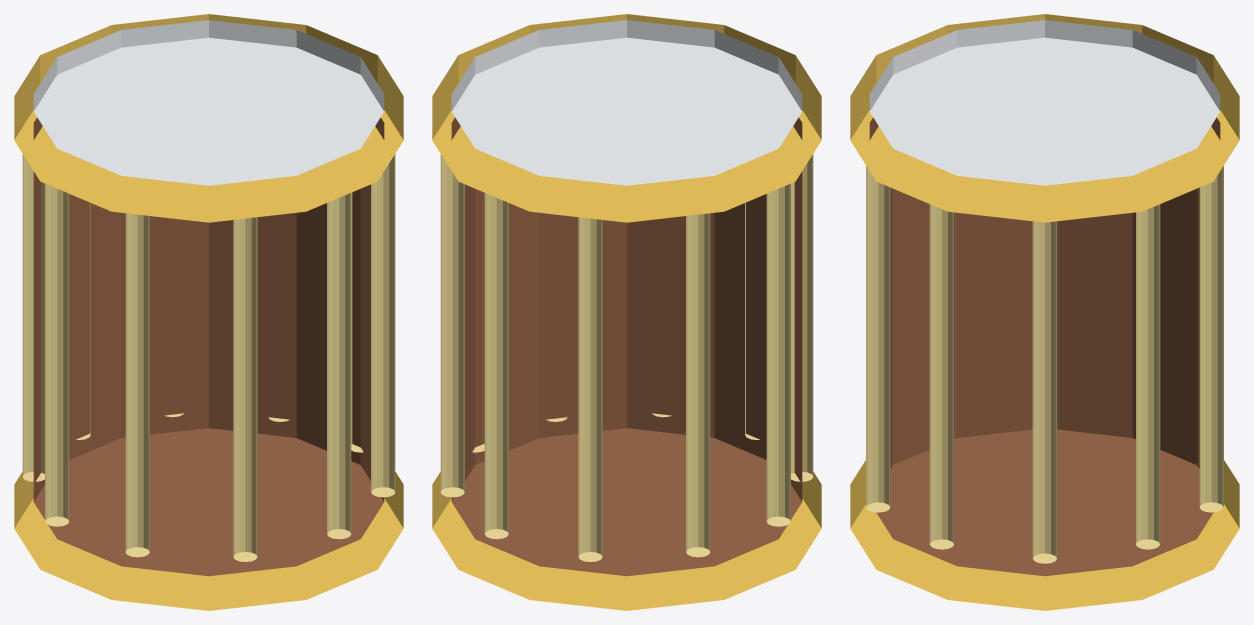
The model's file is minglora_reggae_drum.gltf.
3 renders of one model, left to right at view 1: azimuth 30°, elevation 25°; view 2: azimuth 150°, elevation 25°; view 3: azimuth 270°, elevation 25°, orthographic.
Visible parts, largest first — view 1: minglora_reggae_drum_part_0, minglora_reggae_drum_part_2, minglora_reggae_drum_part_1, minglora_reggae_drum_part_3, minglora_reggae_drum_part_7, minglora_reggae_drum_part_8, minglora_reggae_drum_part_6, minglora_reggae_drum_part_9, minglora_reggae_drum_part_5, minglora_reggae_drum_part_10, minglora_reggae_drum_part_4; view 2: minglora_reggae_drum_part_0, minglora_reggae_drum_part_2, minglora_reggae_drum_part_1, minglora_reggae_drum_part_3, minglora_reggae_drum_part_11, minglora_reggae_drum_part_10, minglora_reggae_drum_part_12, minglora_reggae_drum_part_9, minglora_reggae_drum_part_13, minglora_reggae_drum_part_8, minglora_reggae_drum_part_4; view 3: minglora_reggae_drum_part_0, minglora_reggae_drum_part_2, minglora_reggae_drum_part_1, minglora_reggae_drum_part_3, minglora_reggae_drum_part_4, minglora_reggae_drum_part_5, minglora_reggae_drum_part_13, minglora_reggae_drum_part_6, minglora_reggae_drum_part_12.
Part boxes in pixels (x1,y1,x2,y2): minglora_reggae_drum_part_0: (33, 117, 384, 576); minglora_reggae_drum_part_2: (33, 20, 384, 185); minglora_reggae_drum_part_1: (14, 14, 403, 222); minglora_reggae_drum_part_3: (14, 472, 403, 610); minglora_reggae_drum_part_7: (233, 217, 257, 561); minglora_reggae_drum_part_8: (125, 213, 149, 557); minglora_reggae_drum_part_6: (327, 193, 351, 539); minglora_reggae_drum_part_9: (45, 183, 69, 526); minglora_reggae_drum_part_5: (371, 154, 395, 497); minglora_reggae_drum_part_10: (22, 154, 44, 481); minglora_reggae_drum_part_4: (351, 192, 363, 452); minglora_reggae_drum_part_0: (451, 117, 802, 576); minglora_reggae_drum_part_2: (451, 20, 802, 185); minglora_reggae_drum_part_1: (432, 14, 821, 222); minglora_reggae_drum_part_3: (432, 472, 821, 610); minglora_reggae_drum_part_11: (578, 217, 602, 561); minglora_reggae_drum_part_10: (686, 213, 710, 557); minglora_reggae_drum_part_12: (484, 193, 508, 539); minglora_reggae_drum_part_9: (766, 183, 790, 526); minglora_reggae_drum_part_13: (440, 154, 464, 497); minglora_reggae_drum_part_8: (791, 154, 813, 481); minglora_reggae_drum_part_4: (472, 192, 484, 452); minglora_reggae_drum_part_0: (869, 117, 1220, 576); minglora_reggae_drum_part_2: (869, 20, 1220, 185); minglora_reggae_drum_part_1: (850, 14, 1239, 222); minglora_reggae_drum_part_3: (850, 460, 1239, 610); minglora_reggae_drum_part_4: (1032, 221, 1057, 563); minglora_reggae_drum_part_5: (929, 204, 953, 549); minglora_reggae_drum_part_13: (1136, 204, 1160, 549); minglora_reggae_drum_part_6: (866, 166, 890, 512); minglora_reggae_drum_part_12: (1199, 166, 1223, 512).
Bounding box in the file's own units: 1.6 × 1.97 × 1.6.
